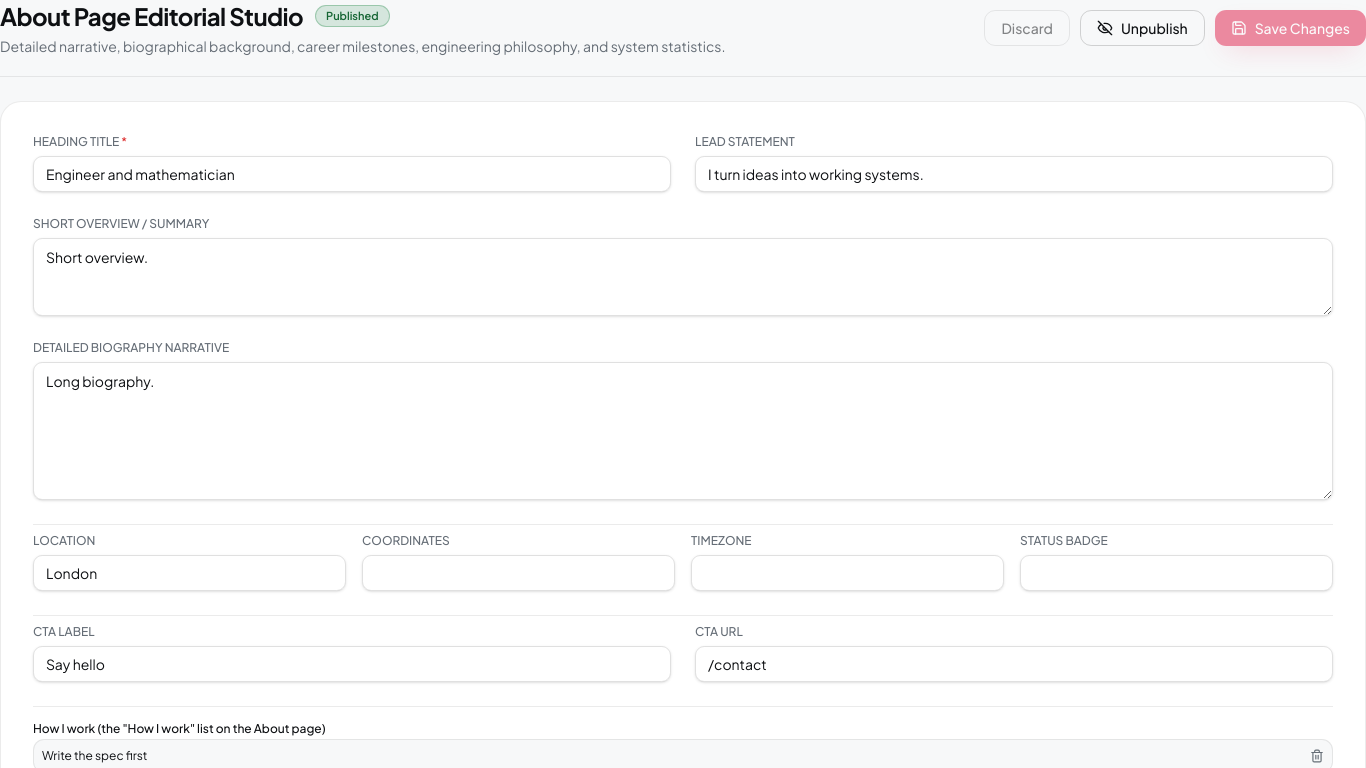
AboutView › refuses to save without a heading
The image size is (1366, 768).
Clear the field labelled "Heading Title" at coordinates (352, 174), box x1=33 y1=156 x2=671 y2=192
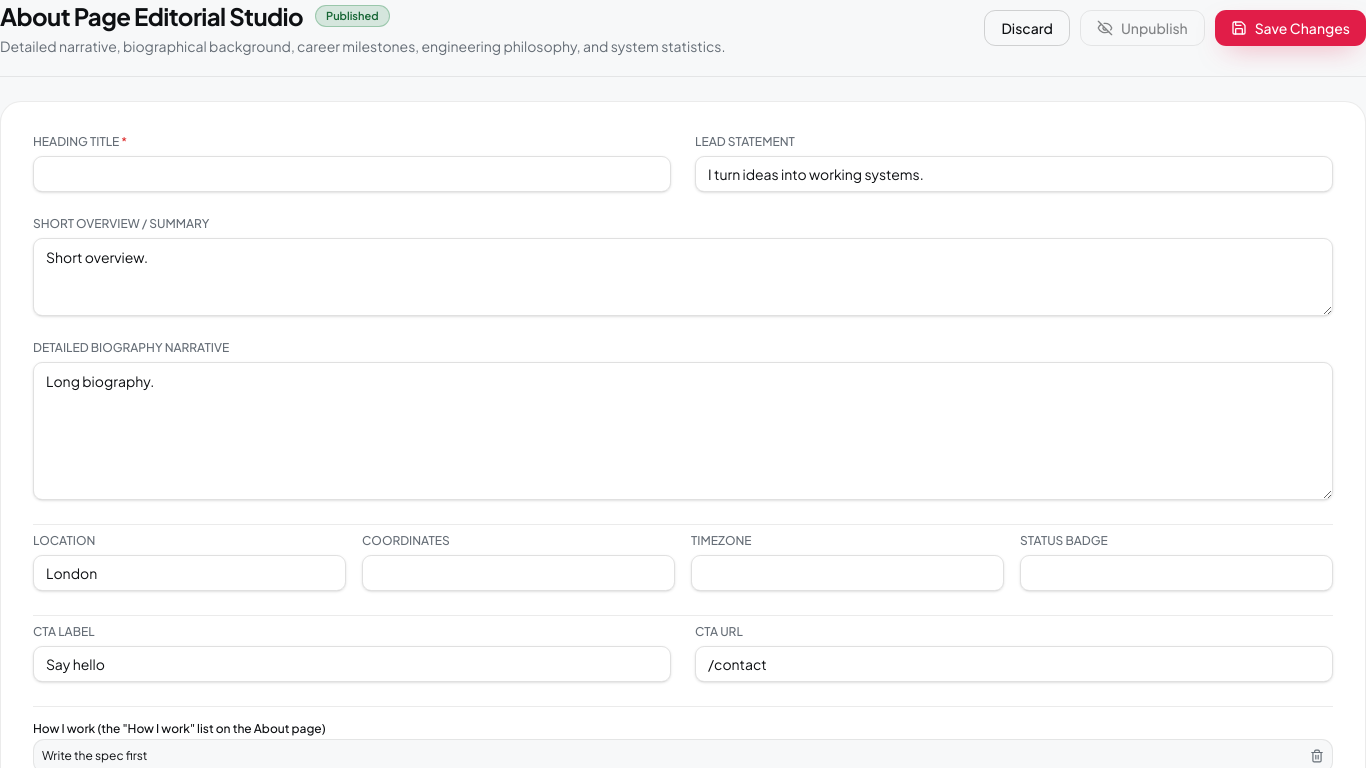
Click the button "Save Changes" at coordinates (1290, 28), box x1=1215 y1=10 x2=1365 y2=46
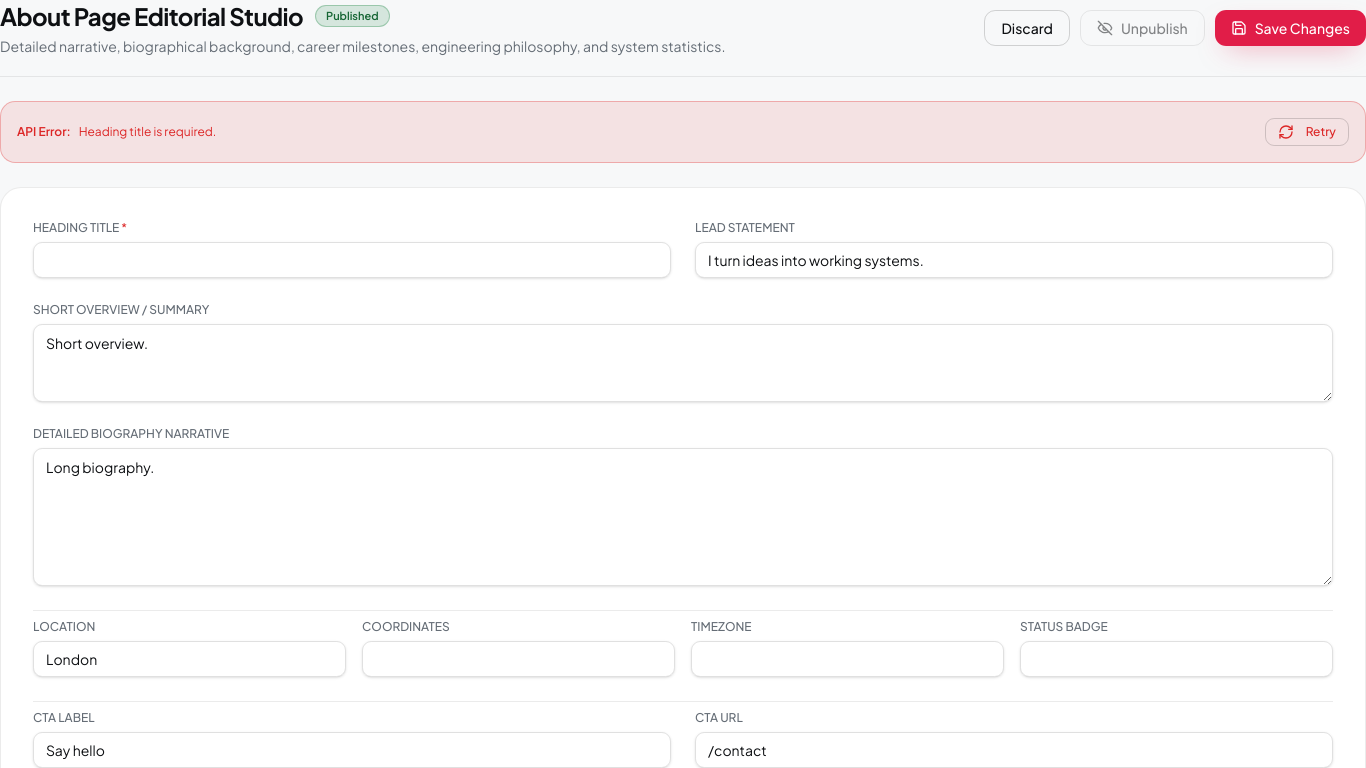
Check: the text "API Error:" is shown, box x1=17 y1=124 x2=71 y2=140
